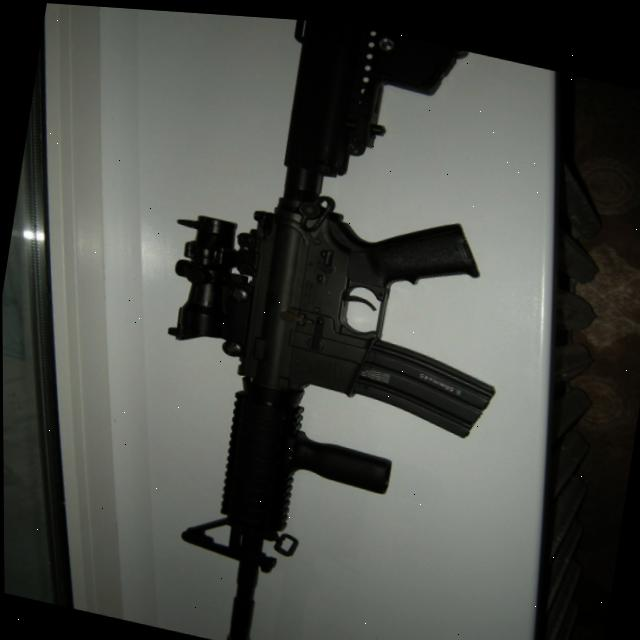firearm: (113, 6, 551, 640)
